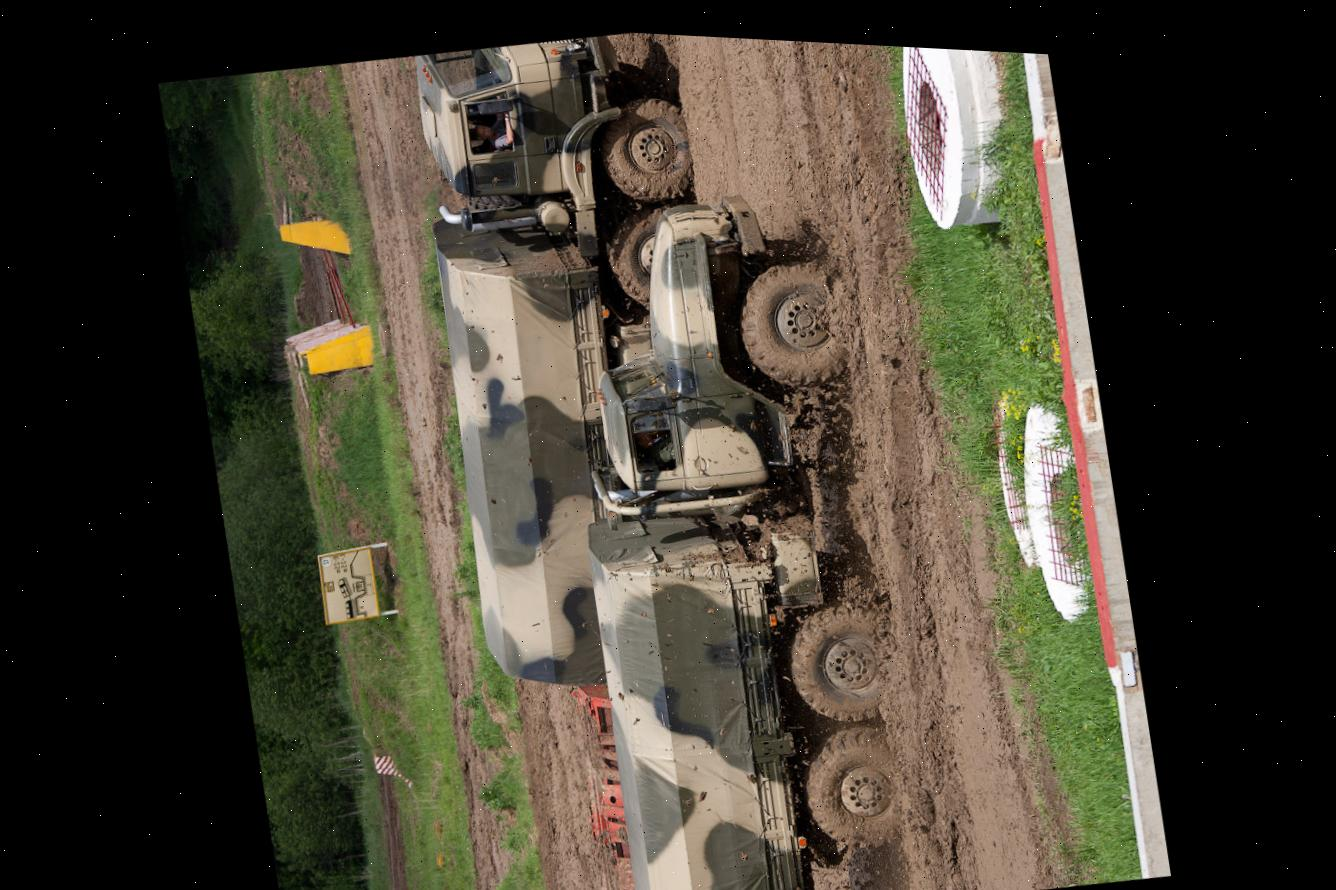truck: (515, 162, 935, 890), (394, 21, 775, 727)
